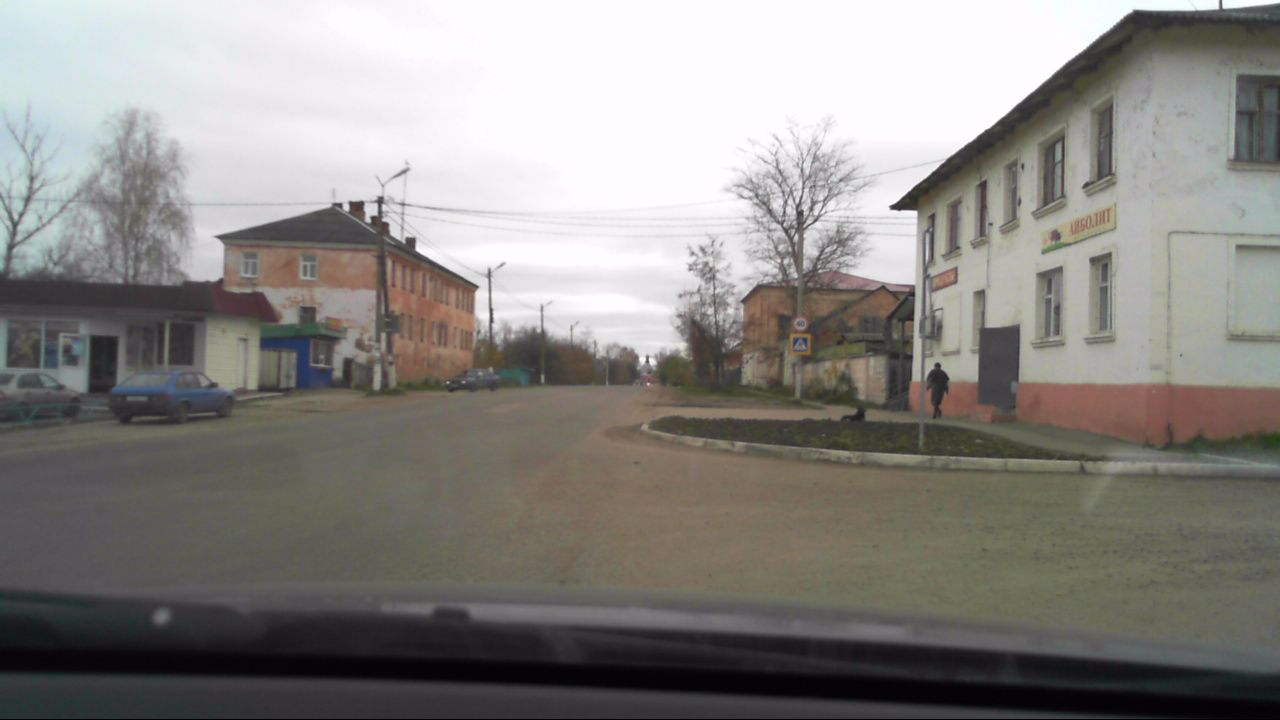speed_warning_40: (793, 312, 813, 332)
